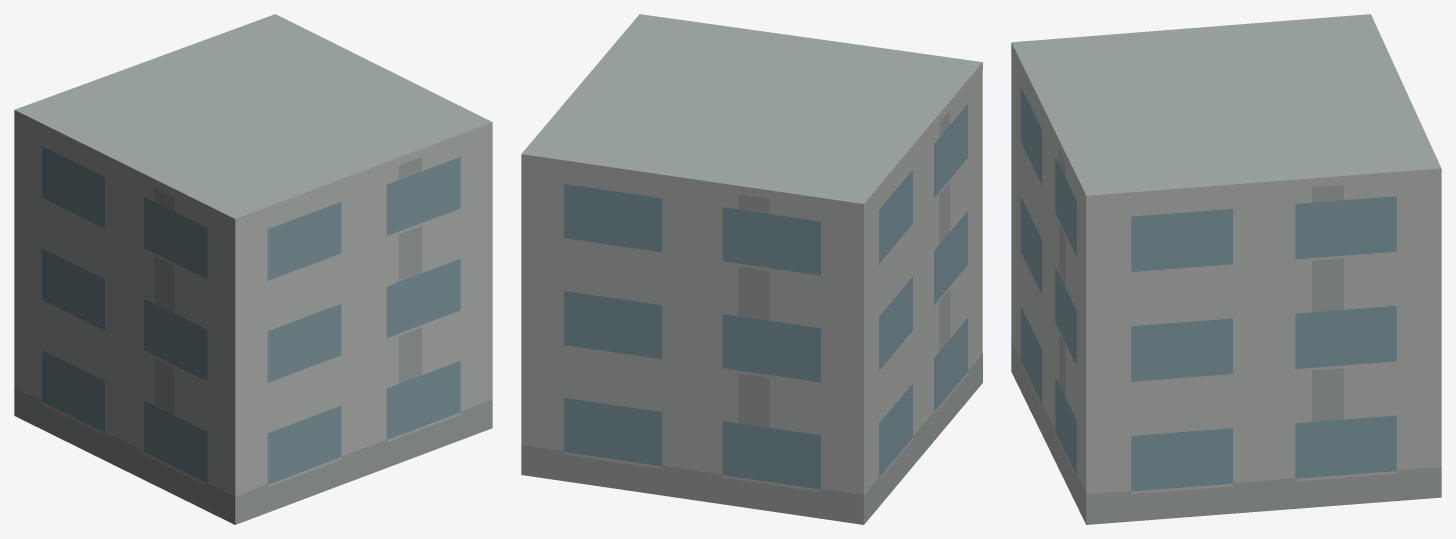
File: survey-upis-32646090.glb
The picture shows the model from 3 angles, left to right: view 1: azimuth 30°, elevation 25°; view 2: azimuth 150°, elevation 25°; view 3: azimuth 270°, elevation 25°; orthographic projection. The views are drawn at different scales.
Parts seen in each view (by area): view 1: survey-upis-32646090.tmp; view 2: survey-upis-32646090.tmp; view 3: survey-upis-32646090.tmp.
Part boxes in pixels (left/top/right/bottom): survey-upis-32646090.tmp: left=14, top=14, right=492, bottom=524; survey-upis-32646090.tmp: left=521, top=14, right=982, bottom=524; survey-upis-32646090.tmp: left=1011, top=14, right=1441, bottom=524.
Size of the model in its own units: 10.84 by 9.15 by 10.85.
